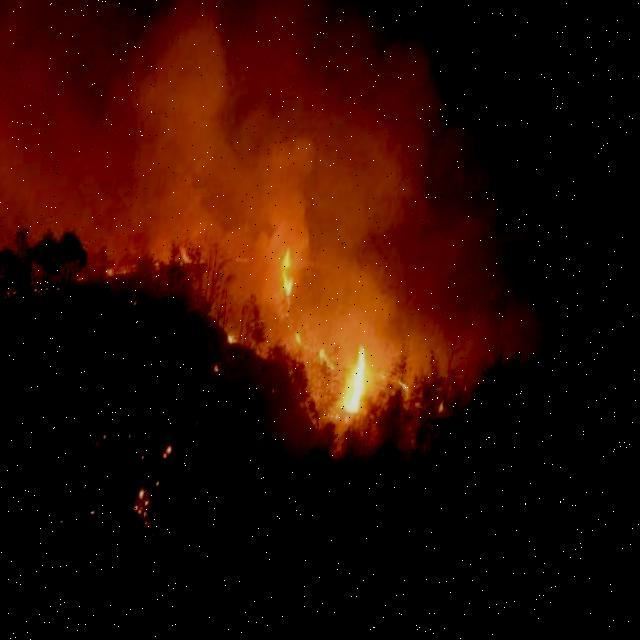Fire: (336, 345, 374, 441), (276, 250, 306, 324)
